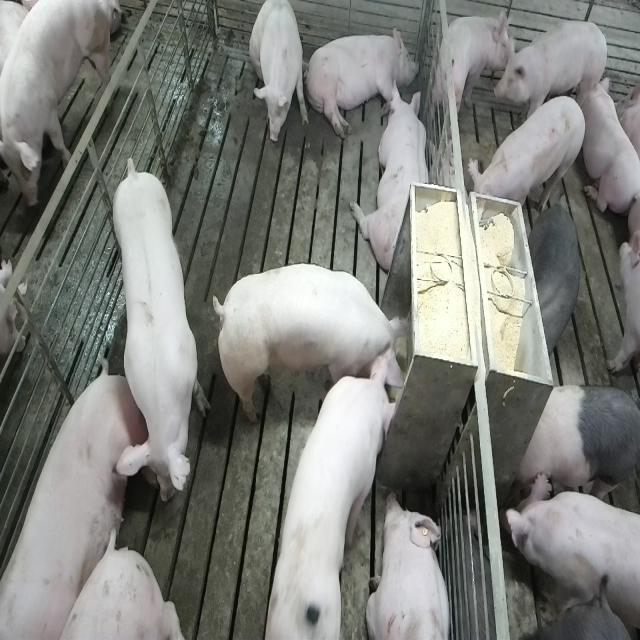Feeding: (262, 358, 406, 636), (209, 261, 410, 424)
Lateral_lying: (302, 23, 418, 140)
Sitting: (250, 0, 307, 147)
Standing: (107, 152, 206, 506), (0, 0, 116, 210), (502, 470, 638, 639), (512, 382, 638, 518), (471, 95, 590, 226), (495, 20, 610, 130), (435, 12, 518, 130), (528, 203, 582, 357), (519, 594, 638, 640), (610, 233, 640, 377)
Sternal_lying: (353, 81, 432, 274), (367, 491, 454, 640), (578, 69, 637, 220)
